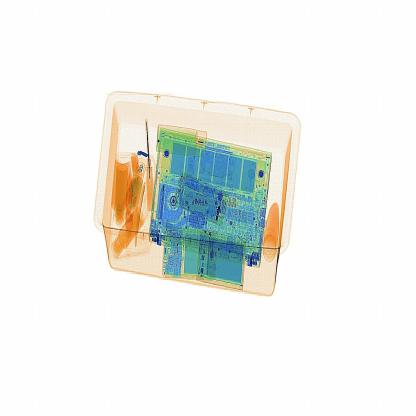wrench: (138, 117, 160, 217)
